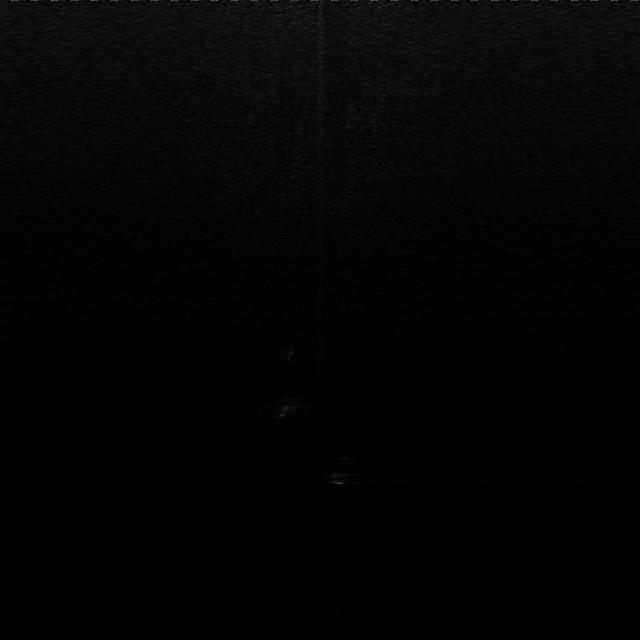circle cage: (271, 388, 308, 424)
tyre: (327, 450, 361, 489)
